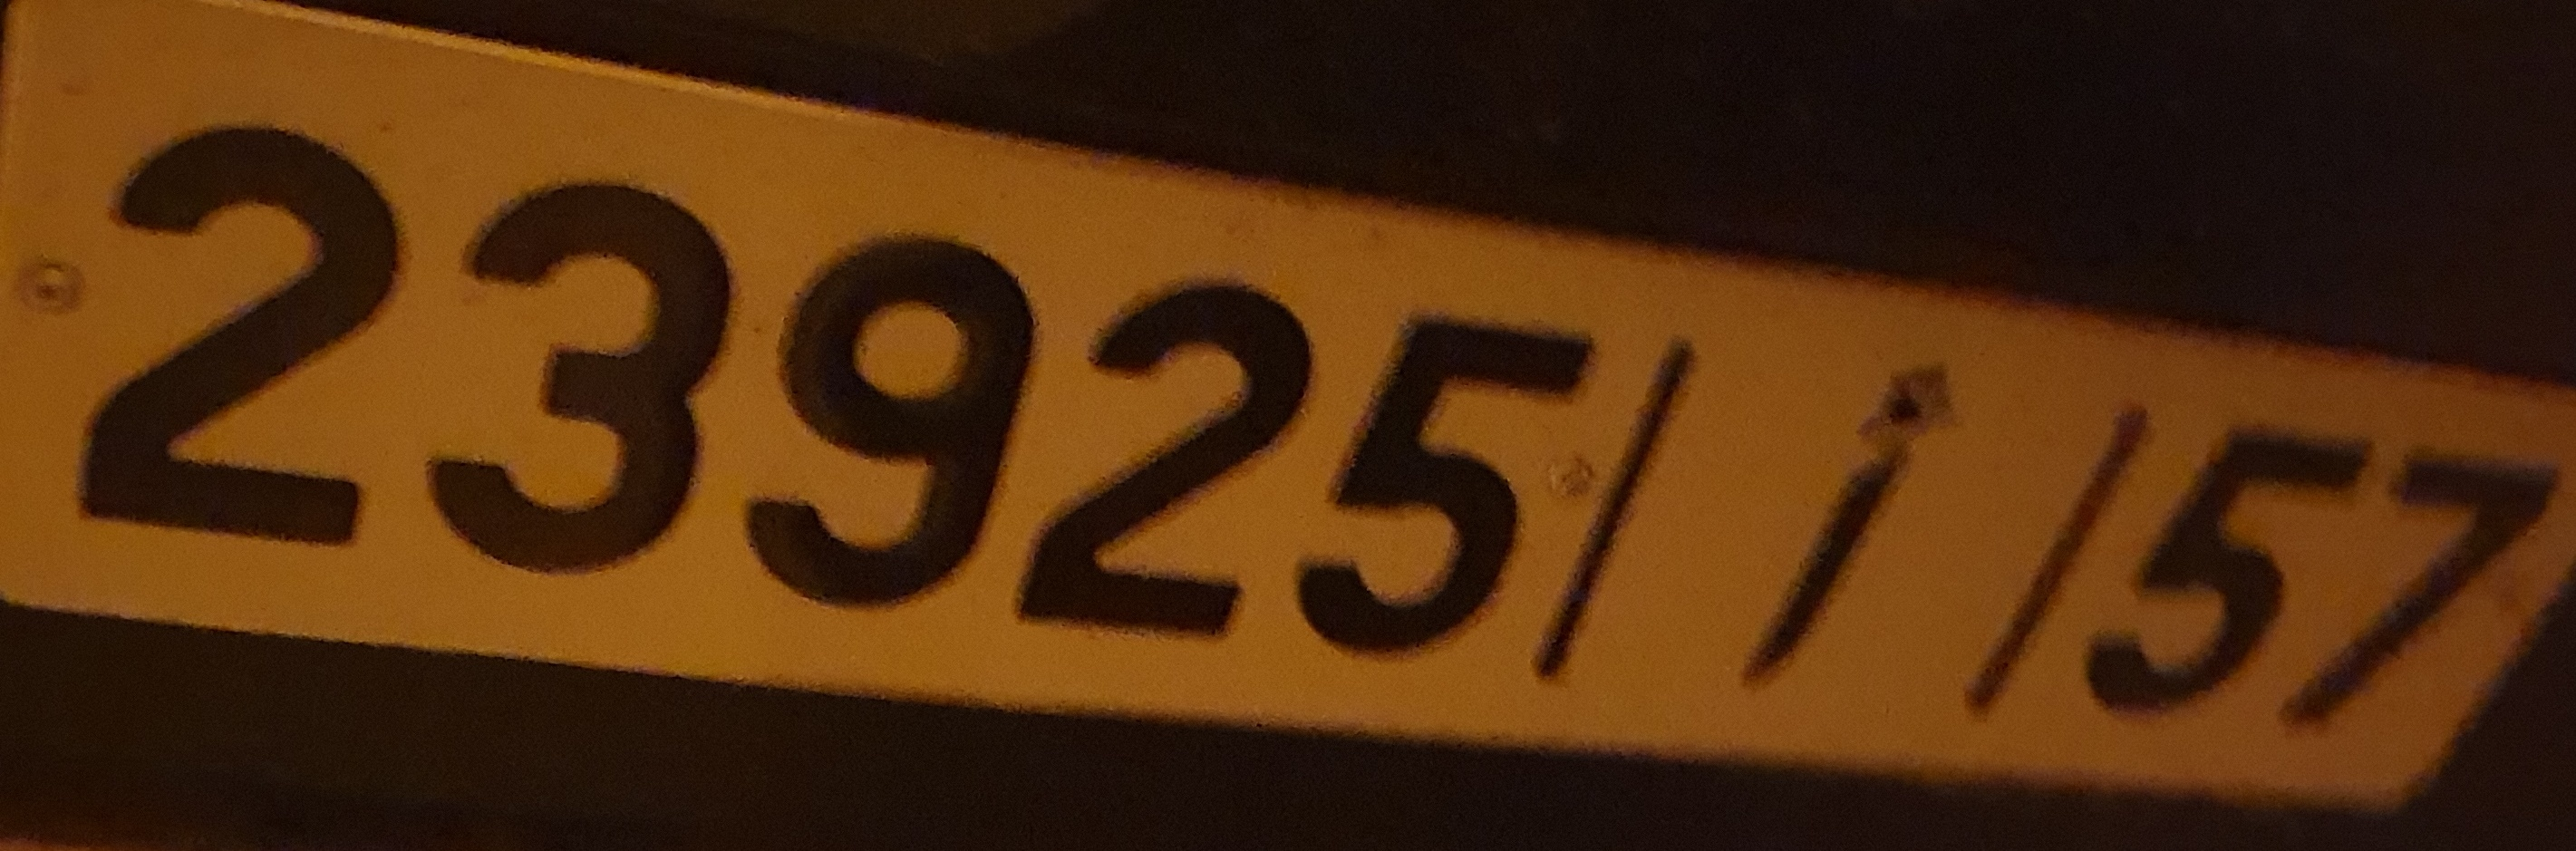2: (61, 108, 410, 557), (1012, 276, 1315, 649)
3: (413, 163, 744, 582)
5: (1300, 303, 1601, 667), (2077, 415, 2369, 716)
7: (2279, 449, 2558, 740)
9: (741, 220, 1039, 606)
a: (1729, 351, 1969, 703)
